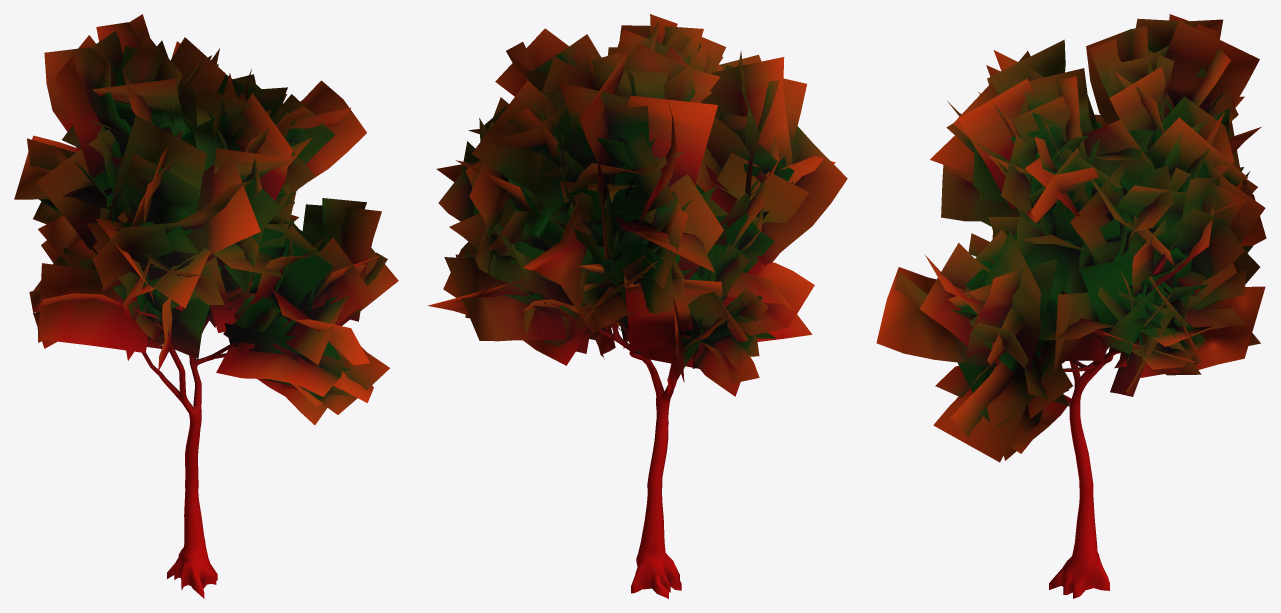
Rendered from GenericTreeSummer_A.fbx.
3 views of the same model, side by side, from view 1: azimuth 30°, elevation 25°; view 2: azimuth 150°, elevation 25°; view 3: azimuth 270°, elevation 25° (orthographic). The views are drawn at different scales.
Parts seen in each view (by area): view 1: GTSA_Leaves_LOD0, GTSA_Bark_LOD0; view 2: GTSA_Leaves_LOD0, GTSA_Bark_LOD0; view 3: GTSA_Leaves_LOD0, GTSA_Bark_LOD0.
Part boxes in pixels (x1=…): GTSA_Leaves_LOD0: x1=14, y1=14, x2=398, y2=424; GTSA_Bark_LOD0: x1=142, y1=296, x2=305, y2=598; GTSA_Leaves_LOD0: x1=427, y1=14, x2=847, y2=396; GTSA_Bark_LOD0: x1=597, y1=277, x2=709, y2=598; GTSA_Leaves_LOD0: x1=876, y1=14, x2=1266, y2=462; GTSA_Bark_LOD0: x1=1034, y1=237, x2=1127, y2=598.
Size of what is drawn, in the model's own units: 7.81 by 12.88 by 8.09.
